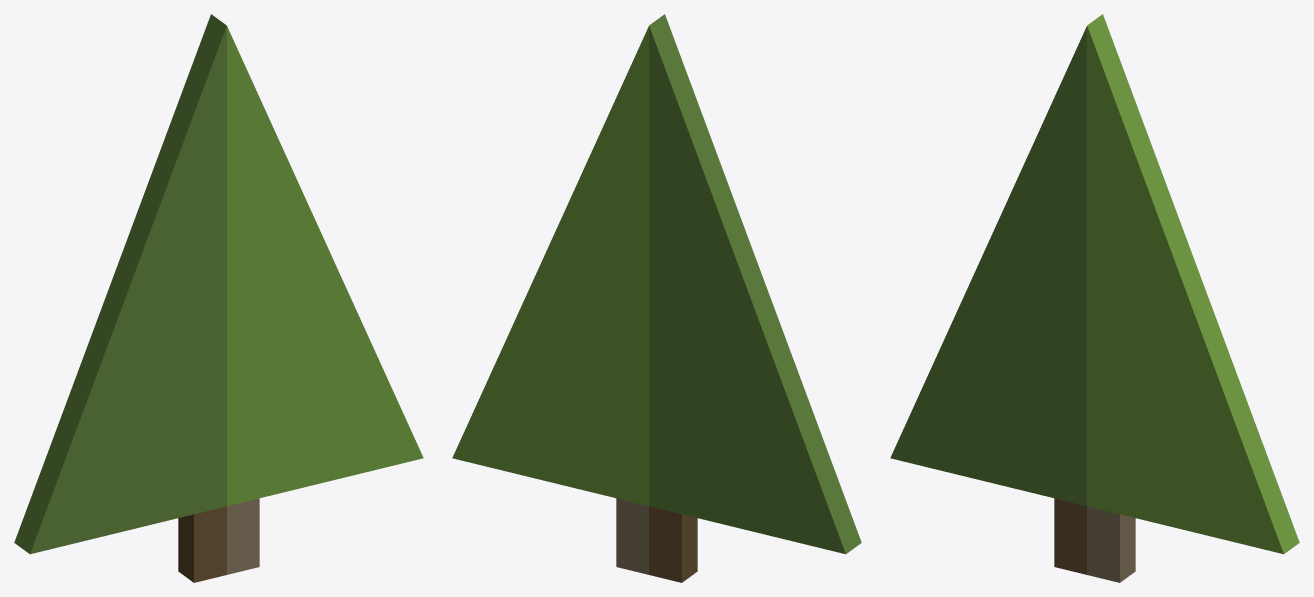
The model's file is tree-small.fbx.
3 renders of one model, left to right at view 1: azimuth 30°, elevation 25°; view 2: azimuth 150°, elevation 25°; view 3: azimuth 330°, elevation 25°, orthographic.
Parts seen in each view (by area): view 1: Plane; view 2: Plane; view 3: Plane.
Part boxes in pixels (left/top/right/bottom): Plane: left=14, top=14, right=423, bottom=582; Plane: left=452, top=14, right=861, bottom=582; Plane: left=890, top=14, right=1299, bottom=582.
Bounding box in the file's own units: 36000 × 48000 × 2500.
